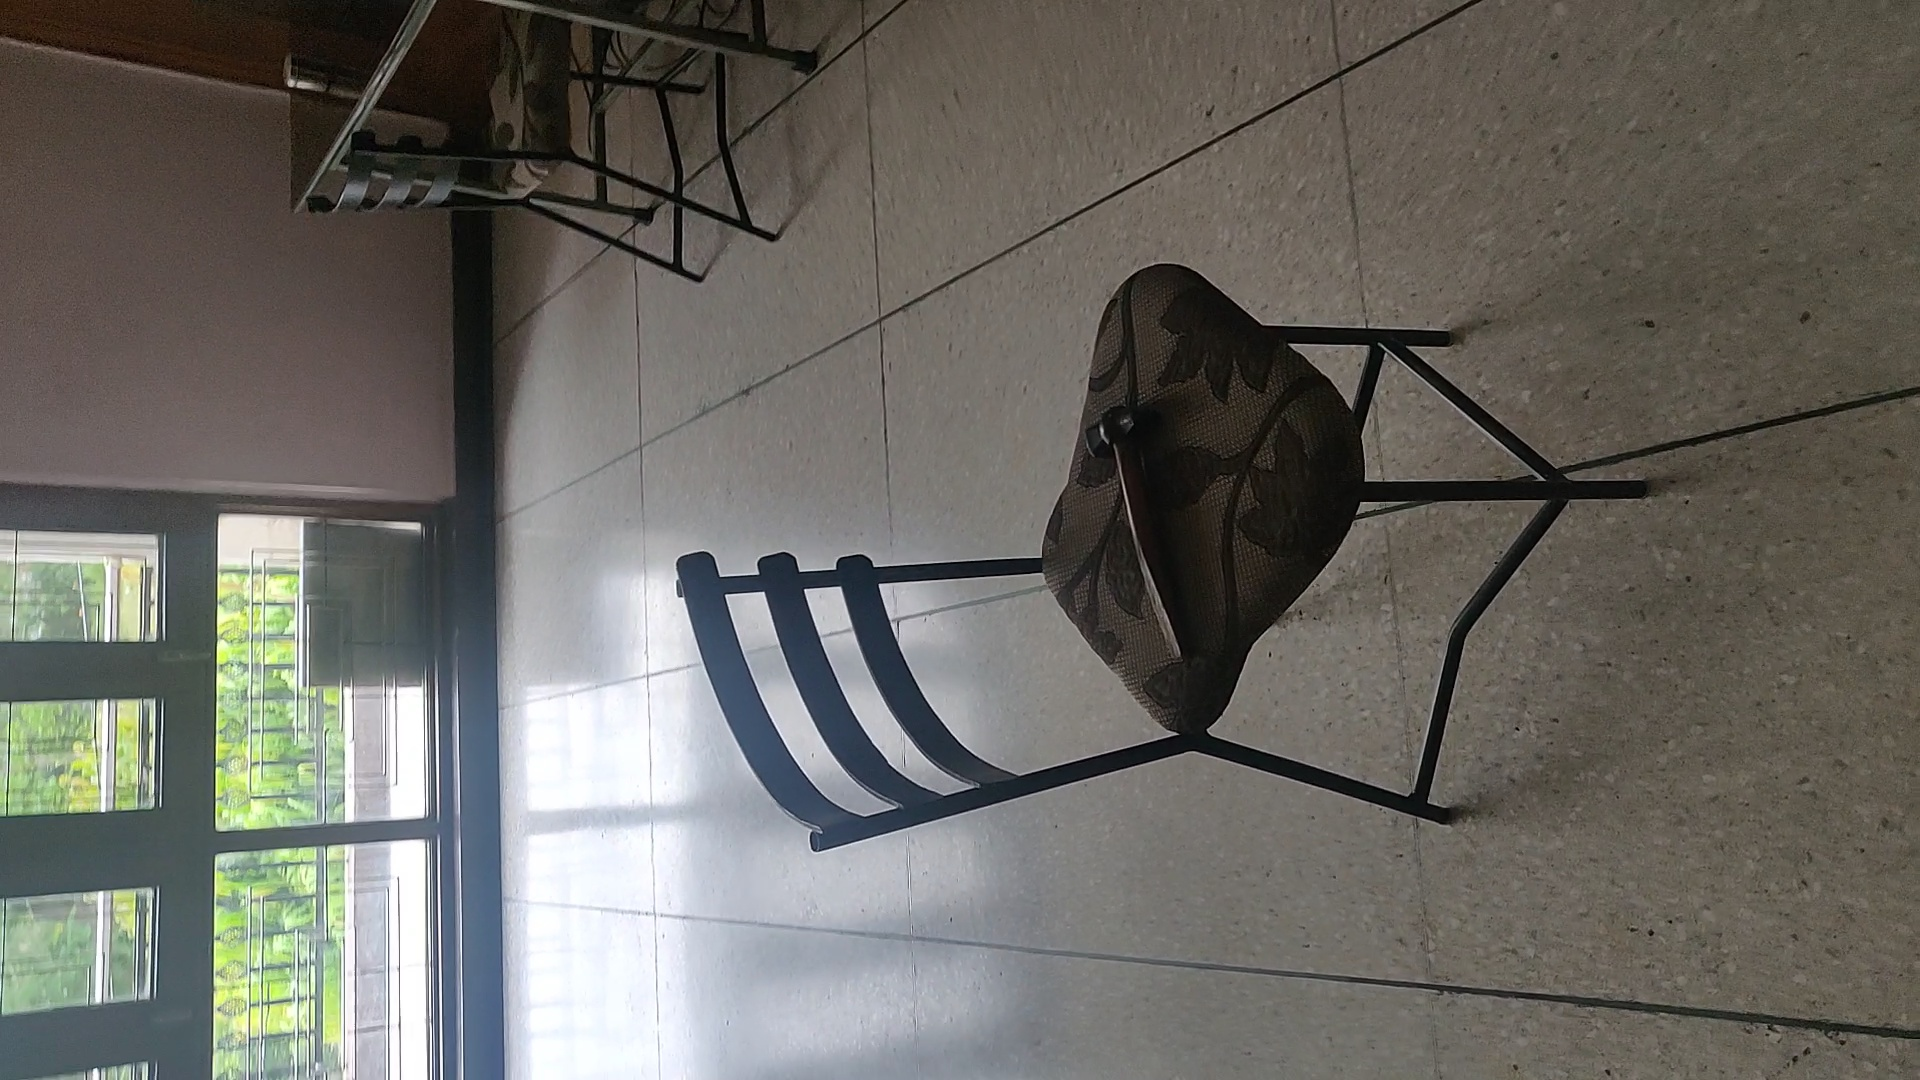hammer: (1081, 404, 1195, 666)
